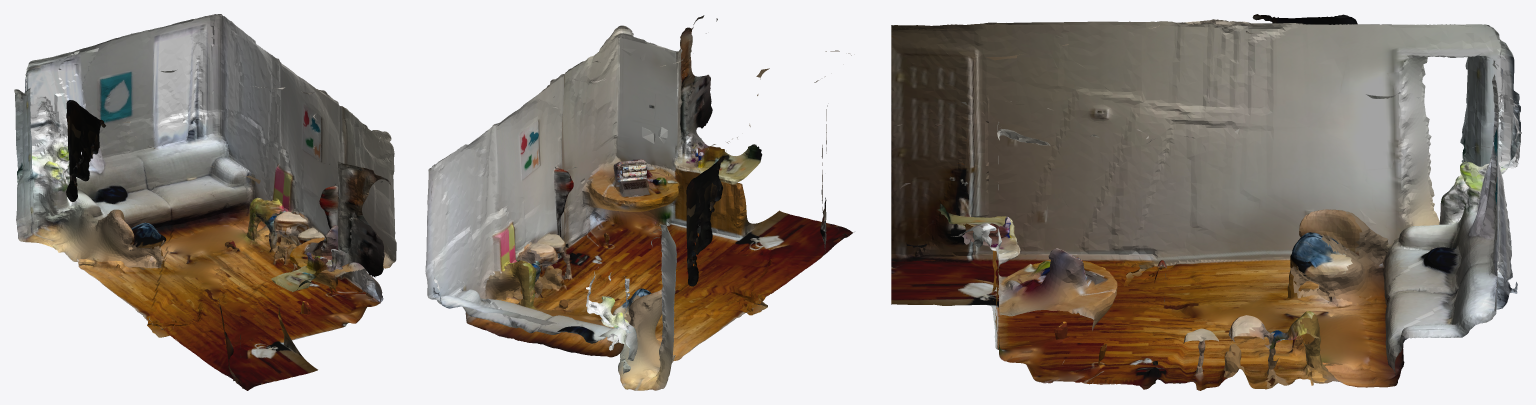
The model's file is asset.glb.
3 renders of one model, left to right at view 1: azimuth 30°, elevation 25°; view 2: azimuth 150°, elevation 25°; view 3: azimuth 270°, elevation 25°, orthographic. The views are drawn at different scales.
Bounding box in the file's own units: 3.13 × 2.67 × 5.72.
1 material, 1 textured.
